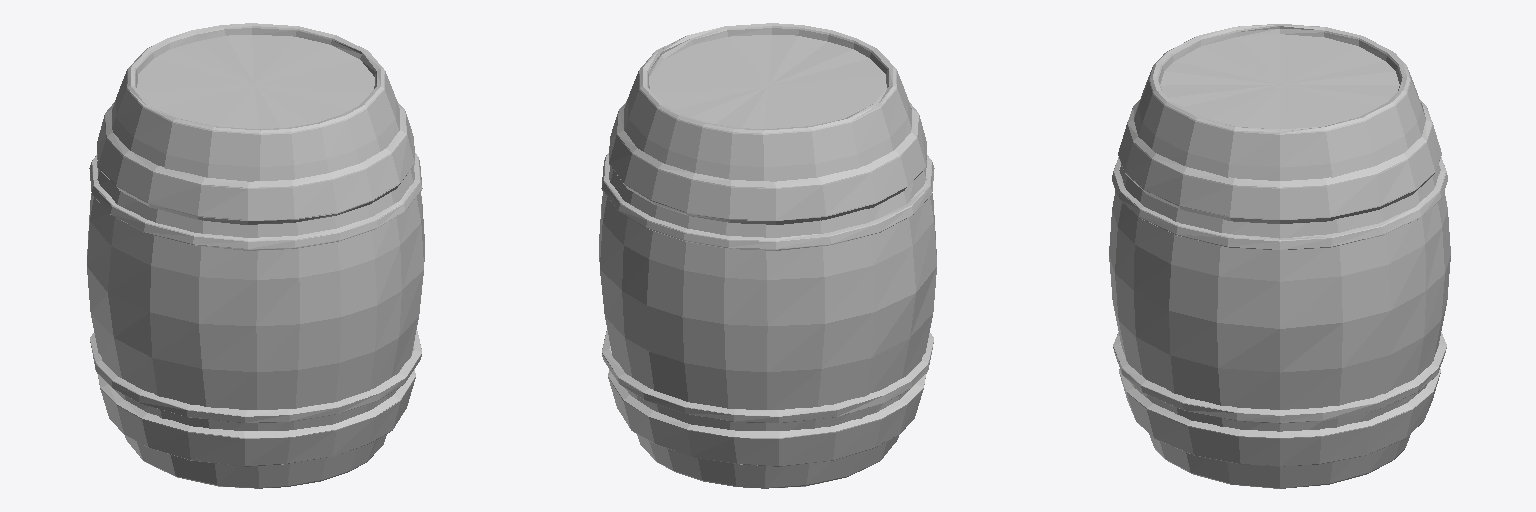
The model's file is barrel.obj.
3 views of the same model, side by side, from view 1: azimuth 30°, elevation 25°; view 2: azimuth 150°, elevation 25°; view 3: azimuth 270°, elevation 25° (orthographic).
Visible parts, largest first — view 1: g_barrelina_meshId0_name; view 2: g_barrelina_meshId0_name; view 3: g_barrelina_meshId0_name.
Boxes of the visible parts, x1,y1,x2,y2 form: g_barrelina_meshId0_name: [87, 23, 424, 488]; g_barrelina_meshId0_name: [599, 23, 936, 488]; g_barrelina_meshId0_name: [1109, 24, 1450, 488].
Size of the model in its own units: 1 by 1.16 by 1.